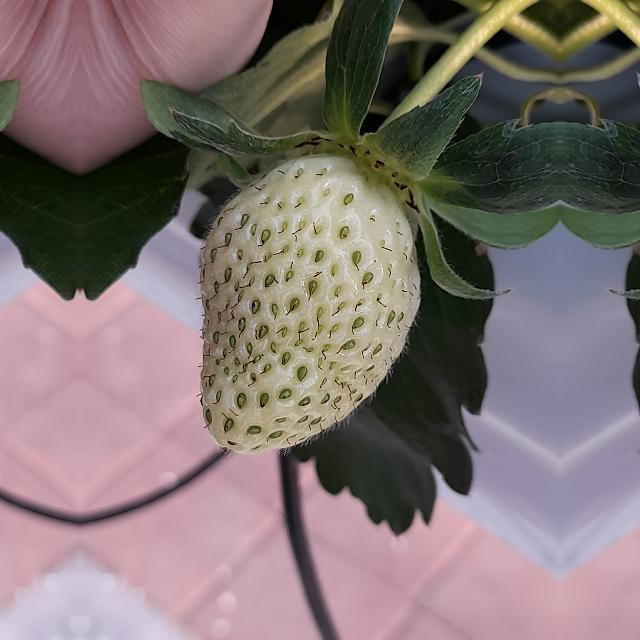Health_25: (196, 152, 427, 456)
